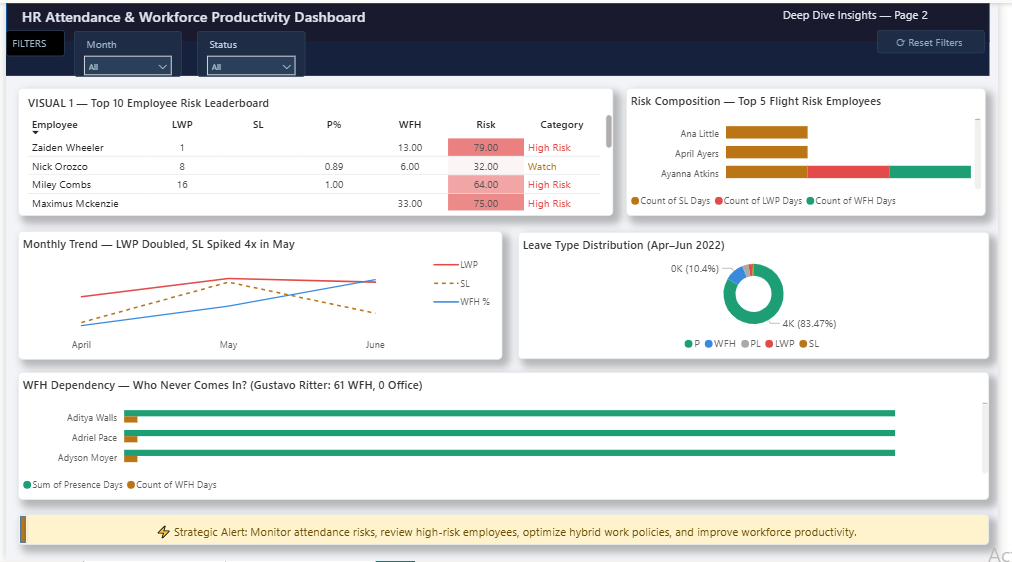

What the dashboard file says about the page in this screenshot:
{"tool":"powerbi","page":{"name":"Root Cause Analysis","canvas":[1280,720],"ordinal":1},"visuals":[{"type":"shape","box":[0,0,1269.3,50.1],"z":0},{"type":"textbox","box":[16,0,600,50],"z":1000},{"type":"textbox","box":[997.8,0,253.2,44],"z":2000},{"type":"shape","box":[0,49.5,1269,45.4],"z":3000},{"type":"textbox","box":[0,34.4,75.7,34.4],"z":4000},{"type":"slicer","fields":{"Values":["Calendar.Month"]},"box":[88.1,35.8,139,59.2],"z":5000},{"type":"slicer","fields":{"Values":["Main Attendance.Status"]},"box":[246.4,35.8,140.4,59.2],"z":6000},{"type":"actionButton","box":[1124.5,35,139,30],"z":7000},{"type":"pivotTable","title":"VISUAL 1 — Top 10 Employee Risk Leaderboard","fields":{"Rows":["Main Attendance.Name"],"Values":["All Measures.LWP Days","All Measures.SL Days","All Measures.Presence %","All Measures.WFH Days","All Measures.Risk Score","All Measures.Risk Category"]},"box":[16,110,768,165],"z":9000},{"type":"barChart","title":"Risk Composition — Top 5 Flight Risk Employees","fields":{"Category":["Employee Summary.Employee"],"Y":["CountNonNull(Employee Summary.SL Days)","CountNonNull(Employee Summary.LWP Days)","CountNonNull(Employee Summary.WFH Days)"]},"box":[800,110,464,165],"z":10000},{"type":"lineChart","title":"Monthly Trend — LWP Doubled, SL Spiked 4x in May","fields":{"Category":["Calendar.Month"],"Y":["All Measures.LWP","All Measures.SL"],"Y2":["All Measures.WFH %"]},"box":[16,294,625,165.5],"z":11000},{"type":"donutChart","title":"Leave Type Distribution (Apr–Jun 2022)","fields":{"Category":["Main Attendance.Status"],"Y":["Main Attendance.Status Count"]},"box":[660.7,295.4,607.9,164.1],"z":12000},{"type":"clusteredBarChart","title":"WFH Dependency — Who Never Comes In? (Gustavo Ritter: 61 WFH, 0 Office)","fields":{"Category":["Main Attendance.Employee"],"Y":["Sum(Employee Summary.Presence Days)","CountNonNull(Employee Summary.WFH Days)"]},"box":[15.7,476.6,1252.9,165],"z":13000},{"type":"shape","box":[15.7,659.3,1252.9,40],"z":15000,"group":"g1"},{"type":"shape","box":[16,659.3,12.8,40],"z":18500,"group":"g1"},{"type":"group","id":"g1","title":"Group 1","box":[15.7,659.3,1252.9,40],"z":18501},{"type":"cardVisual","fields":{"Data":["All Measures.Strategic Recommendations"]},"box":[22.8,653.6,1245.8,45.7],"z":19001}]}

Visuals, with their boxes in screenshot pixels (x1, y1, x2, y2), scaled from the page's 1280x720 canvas onto the 1012x562 screenshot:
shape: (x1=0, y1=0, x2=1004, y2=39)
textbox: (x1=13, y1=0, x2=487, y2=39)
textbox: (x1=789, y1=0, x2=989, y2=34)
shape: (x1=0, y1=39, x2=1003, y2=74)
textbox: (x1=0, y1=27, x2=60, y2=54)
slicer - Calendar.Month: (x1=70, y1=28, x2=180, y2=74)
slicer - Main Attendance.Status: (x1=195, y1=28, x2=306, y2=74)
actionButton: (x1=889, y1=27, x2=999, y2=51)
"VISUAL 1 — Top 10 Employee Risk Leaderboard" pivotTable: (x1=13, y1=86, x2=620, y2=215)
"Risk Composition — Top 5 Flight Risk Employees" barChart: (x1=632, y1=86, x2=999, y2=215)
"Monthly Trend — LWP Doubled, SL Spiked 4x in May" lineChart: (x1=13, y1=229, x2=507, y2=359)
"Leave Type Distribution (Apr–Jun 2022)" donutChart: (x1=522, y1=231, x2=1003, y2=359)
"WFH Dependency — Who Never Comes In? (Gustavo Ritter: 61 WFH, 0 Office)" clusteredBarChart: (x1=12, y1=372, x2=1003, y2=501)
shape: (x1=12, y1=515, x2=1003, y2=546)
shape: (x1=13, y1=515, x2=23, y2=546)
"Group 1" group: (x1=12, y1=515, x2=1003, y2=546)
cardVisual - All Measures.Strategic Recommendations: (x1=18, y1=510, x2=1003, y2=546)
